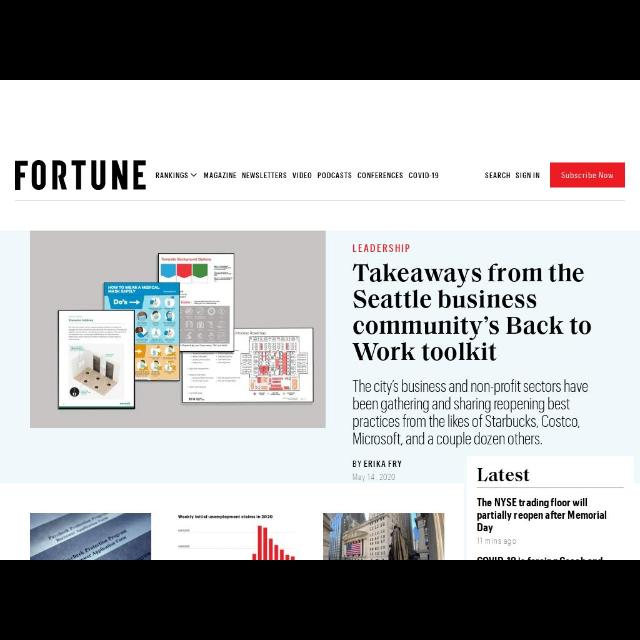icon: (191, 174, 197, 176)
image: (31, 232, 326, 426), (171, 509, 309, 559), (30, 513, 150, 559), (324, 512, 444, 558), (14, 158, 148, 192)
spinner: (153, 168, 199, 182)
text: (351, 261, 595, 363), (350, 378, 590, 447), (476, 496, 608, 534), (474, 466, 532, 484), (352, 242, 410, 254), (476, 555, 606, 559), (476, 535, 518, 547), (562, 171, 614, 179), (352, 474, 396, 481), (352, 460, 402, 466), (154, 171, 188, 179), (242, 172, 286, 178), (358, 172, 402, 178), (316, 172, 352, 178), (204, 172, 236, 178), (409, 173, 439, 179), (485, 172, 511, 178), (516, 172, 540, 178), (292, 172, 312, 178)
textbutton: (550, 162, 626, 188)
toolbar: (3, 141, 639, 201)
